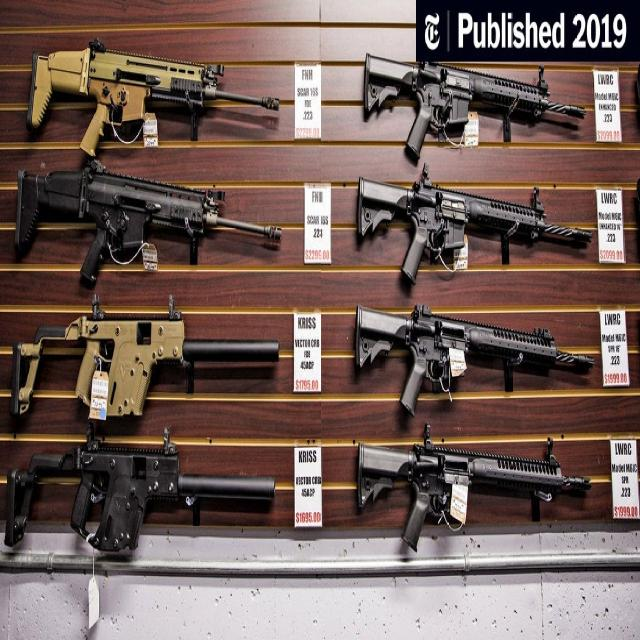Rifle: (358, 426, 591, 553), (15, 170, 283, 280), (357, 166, 592, 286), (28, 47, 280, 157), (355, 305, 594, 418), (362, 55, 586, 168)
SMG: (4, 424, 276, 554), (10, 296, 280, 421)
